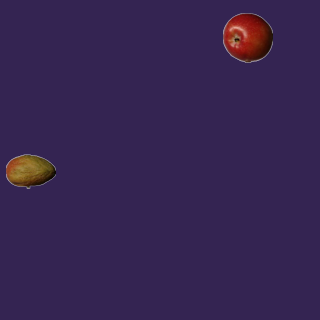Apple Braeburn: (222, 12, 272, 62)
Papaya: (5, 146, 55, 196)
